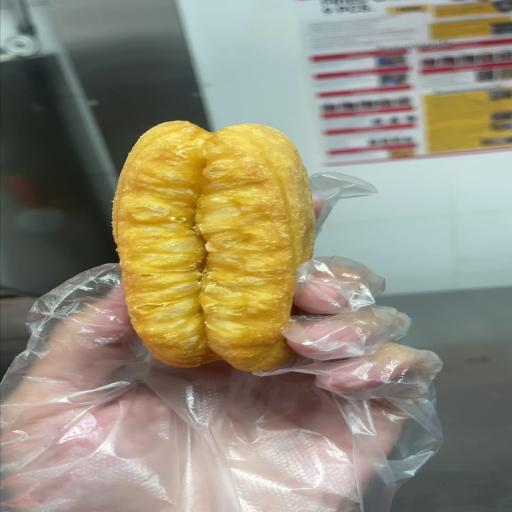brand_golden_good: (113, 121, 314, 371)
